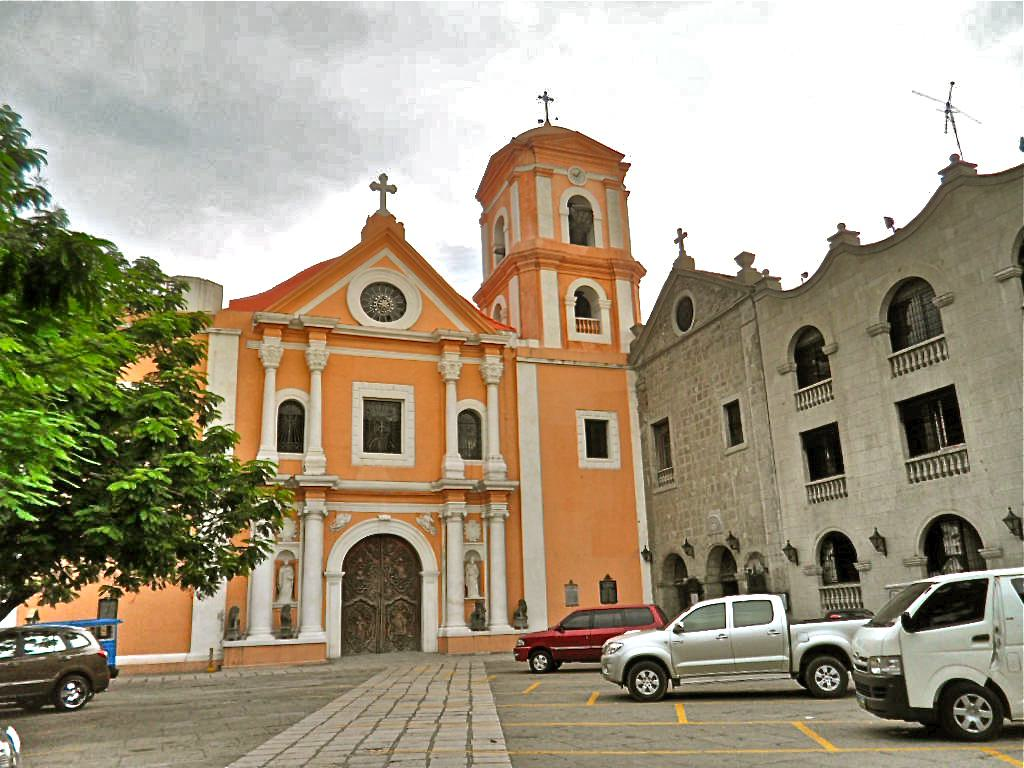San Agustin Church: (216, 76, 660, 671)
